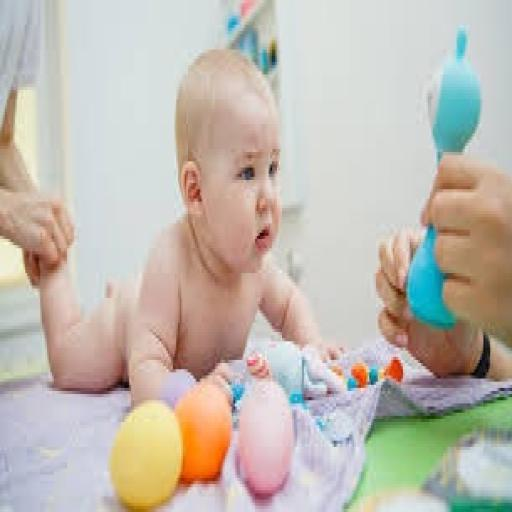baby: (37, 50, 322, 406)
